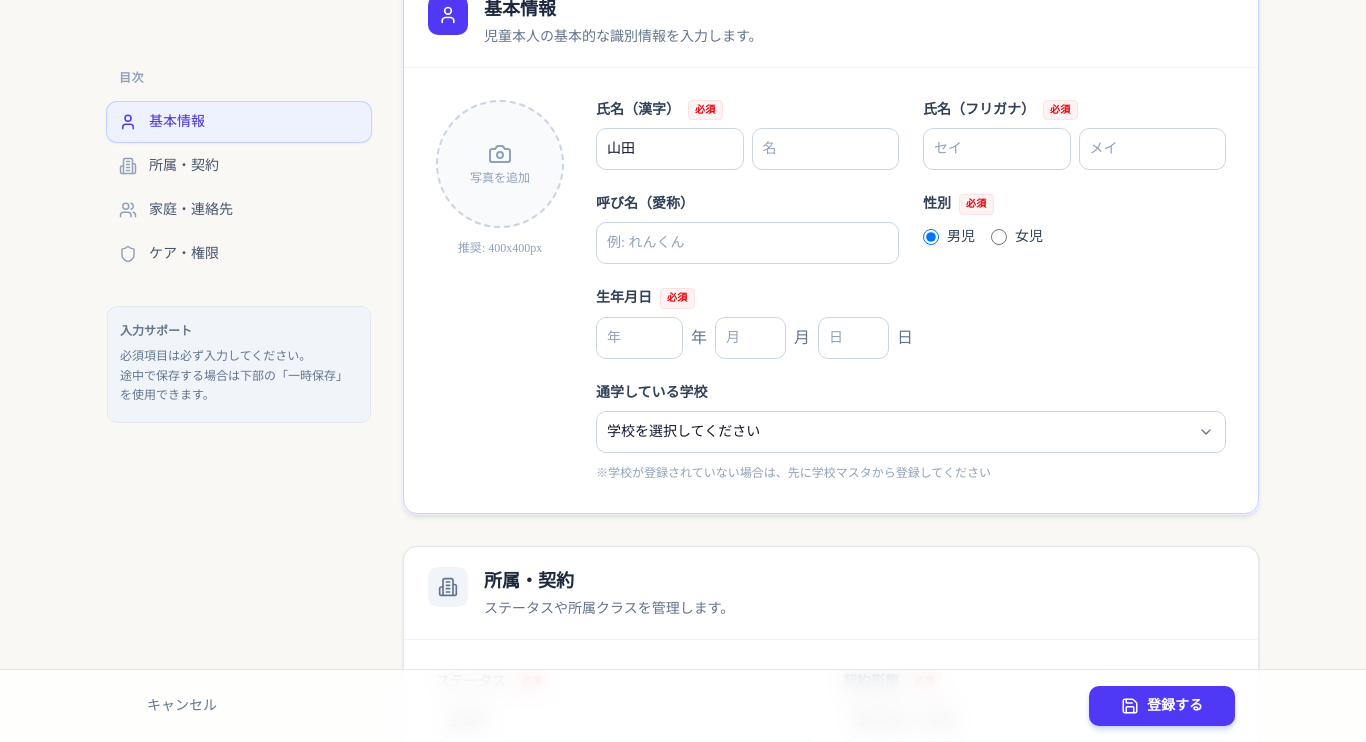
ChildForm sibling search filtering › 新規モードでも紐付けるを押すと保存待ちの兄弟としてUIに反映され、保存時に sibling_ids を送る
Earlier steps of the test are not shown.
Later steps or results of the test are not shown.
Type "花子" into the field with placeholder "名" at (825, 149), box [752,128,899,170]
Type "2020" into the number field with placeholder "年" at (640, 338), box [596,317,683,359]
Type "4" into the number field with placeholder "月" at (750, 338), box [715,317,786,359]
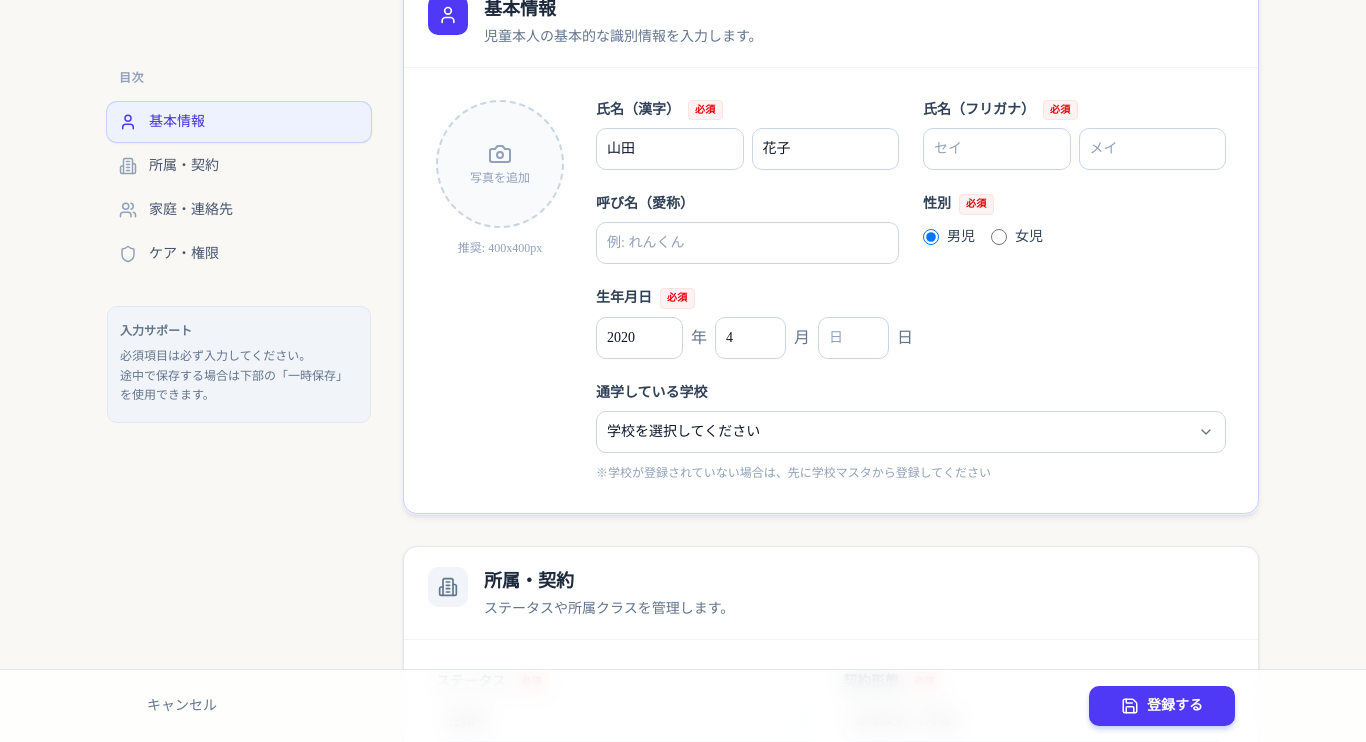
Type "10" into the number field with placeholder "日" at (854, 338), box [818,317,889,359]
(page scrolled)
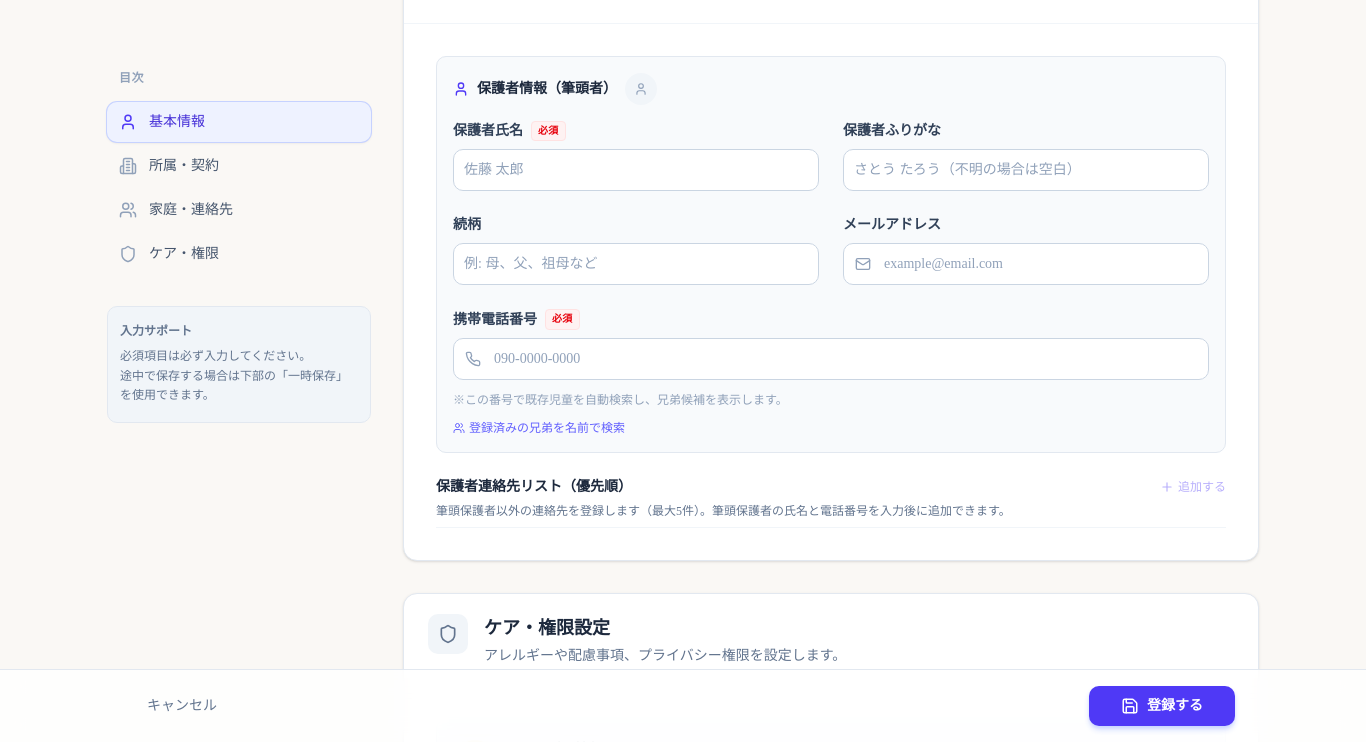
Type "090-1234-5678" into the field with placeholder "090-0000-0000" at (831, 359), box [453,338,1209,380]
(page scrolled)
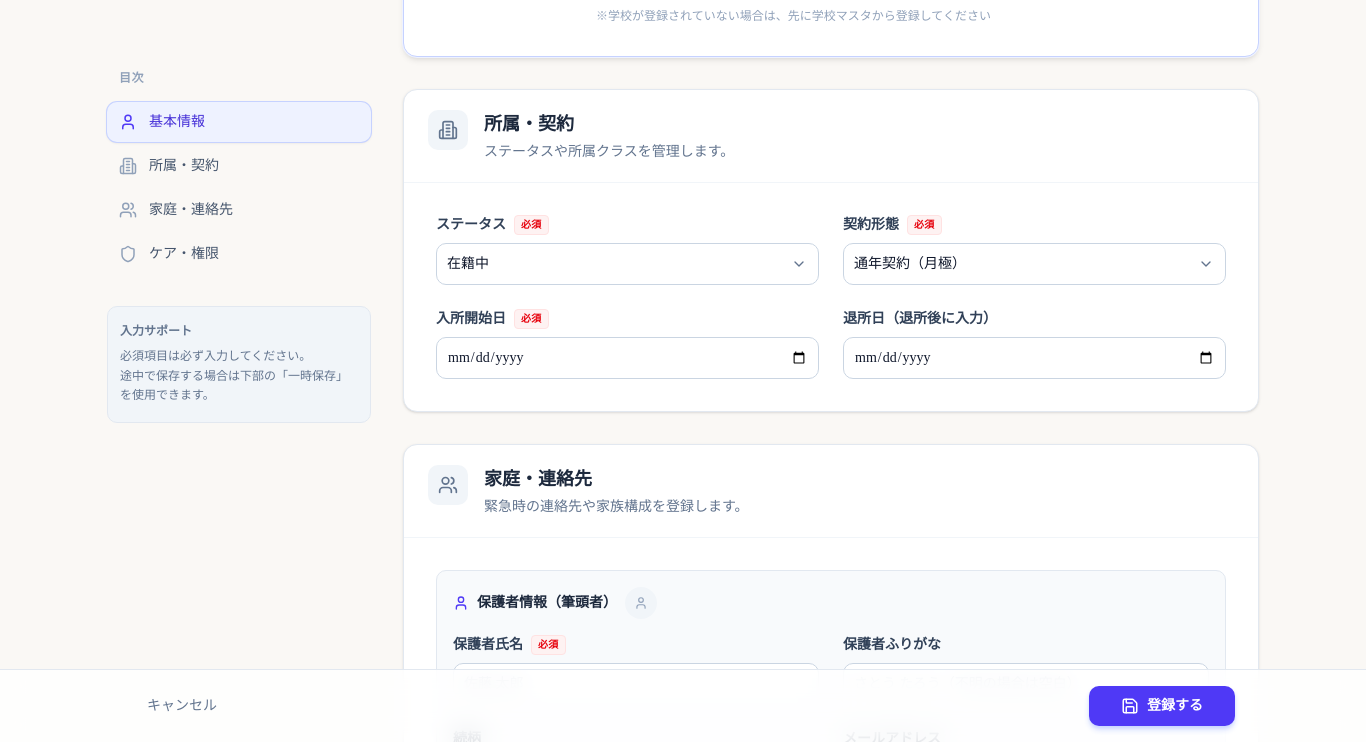
Type "2024-04-01" into the 1st date field at (628, 358), box [436,337,819,379]
(page scrolled)
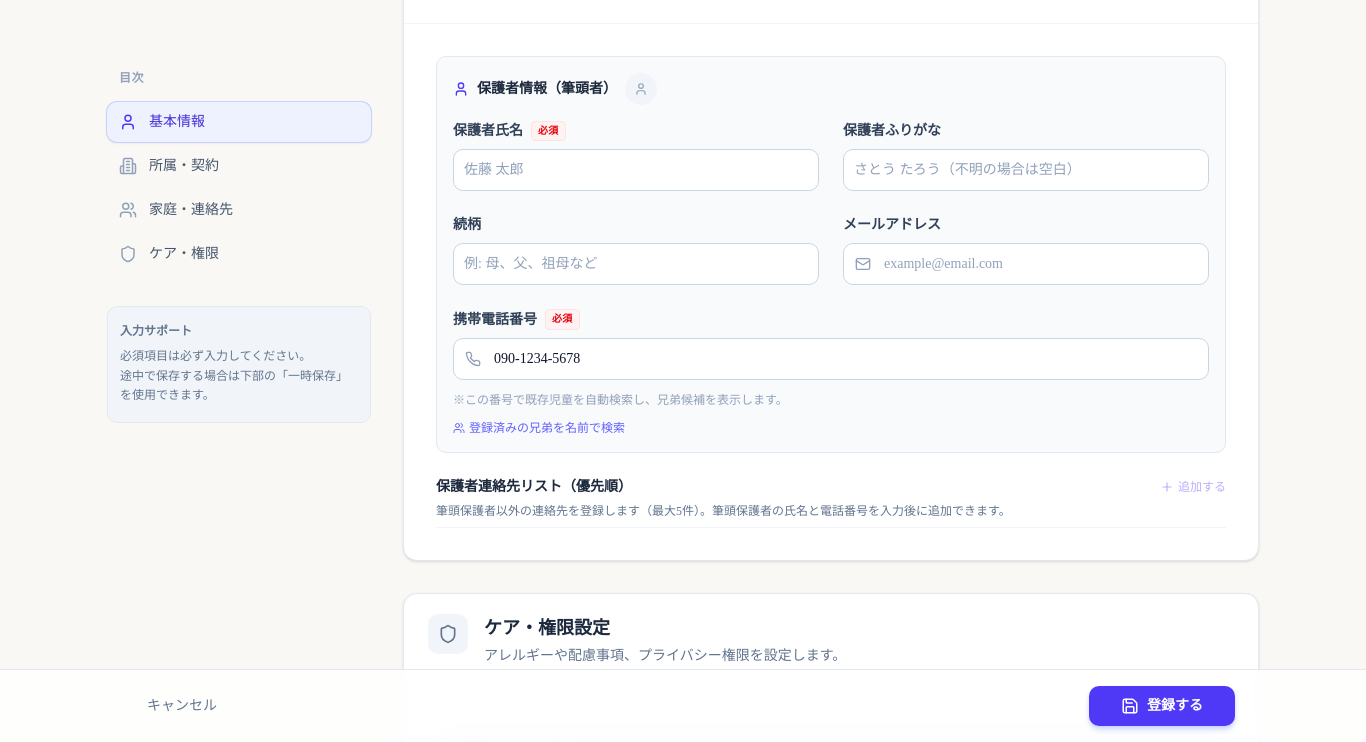
Leave the field with placeholder "090-0000-0000", box [453,338,1209,380]
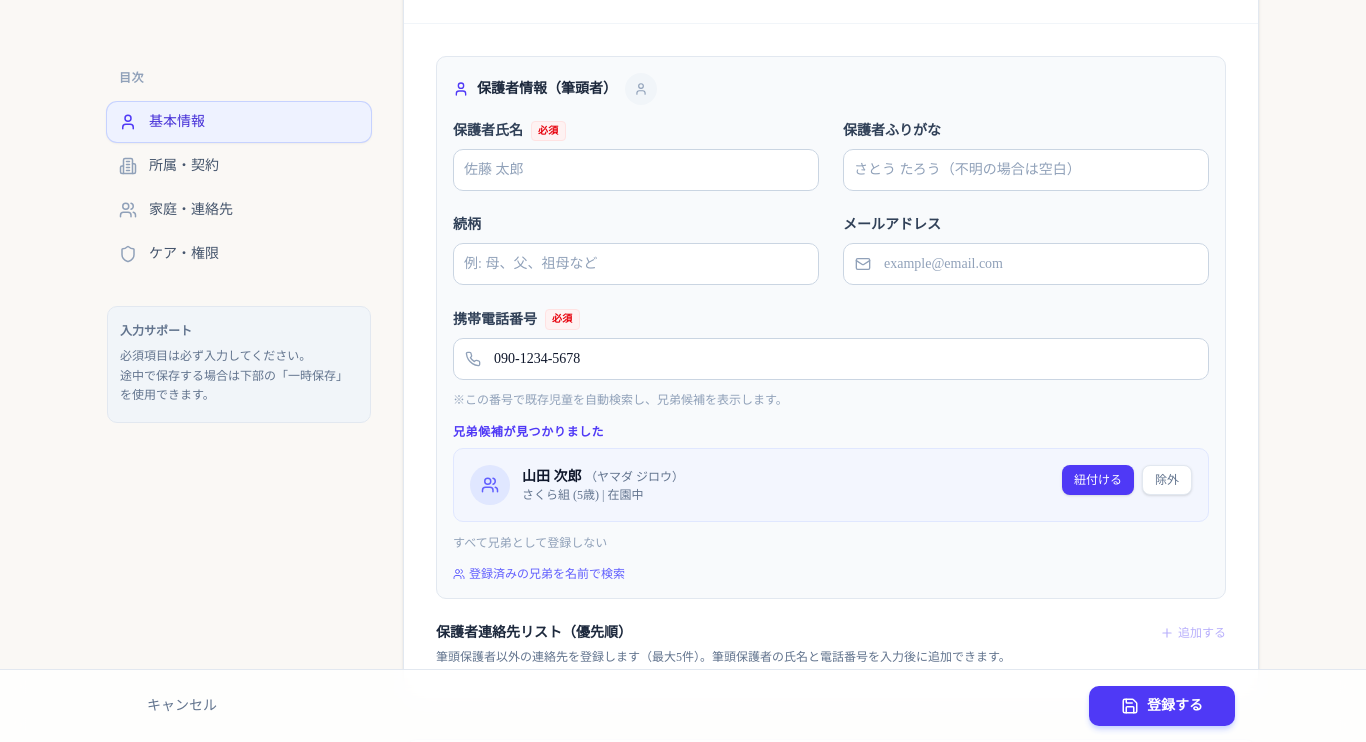
Check: the text "兄弟候補が見つかりました" is shown, box [453,425,604,439]
Click the button "紐付ける" at (1098, 480), box [1062,465,1134,495]
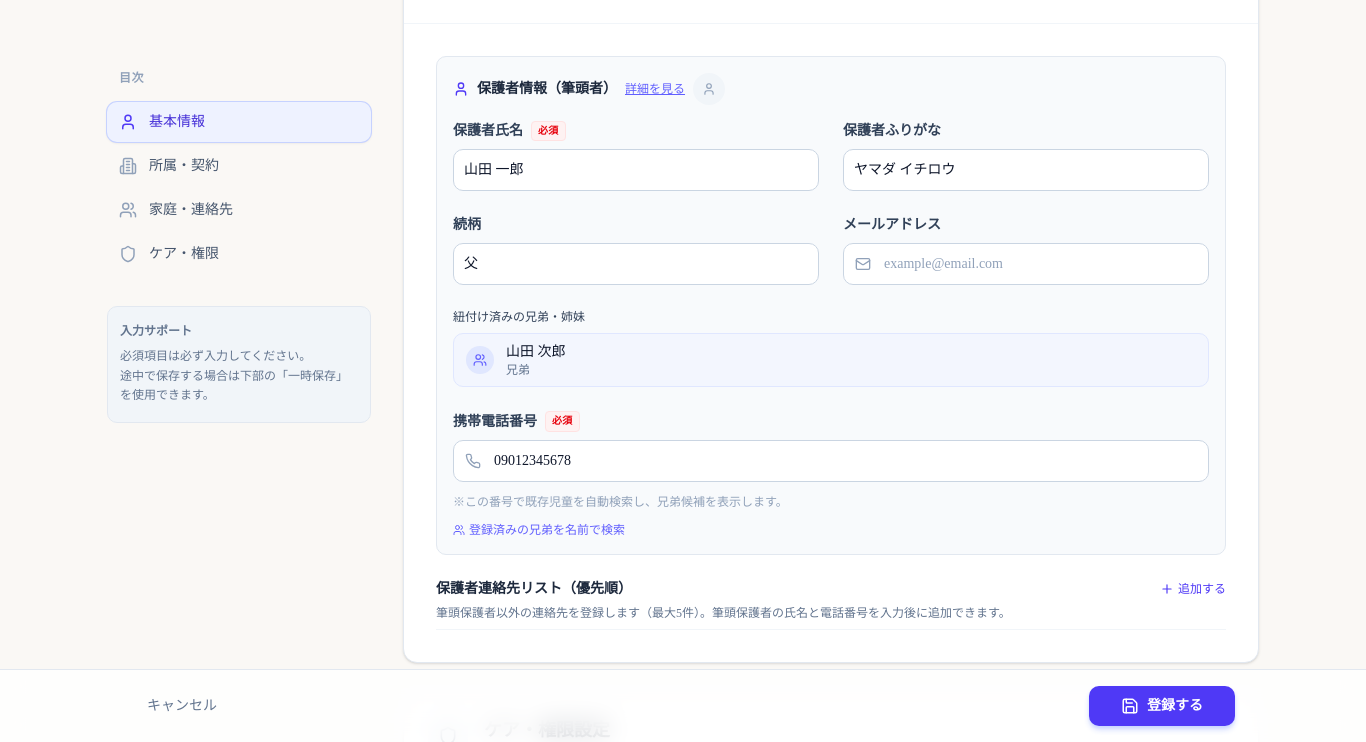
Check: the text "山田 次郎" is shown, box [506,342,566,362]
Check: the text "紐付け済みの兄弟・姉妹" is shown, box [453,310,585,324]
Check: the field showing "山田 一郎" below "保護者氏名" is shown, box [453,149,819,191]
